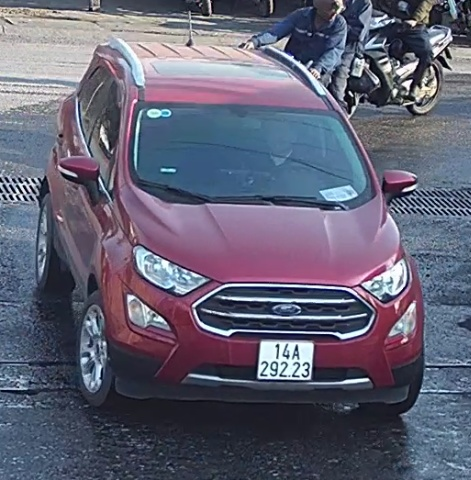vehicle plate: (254, 336, 317, 385)
